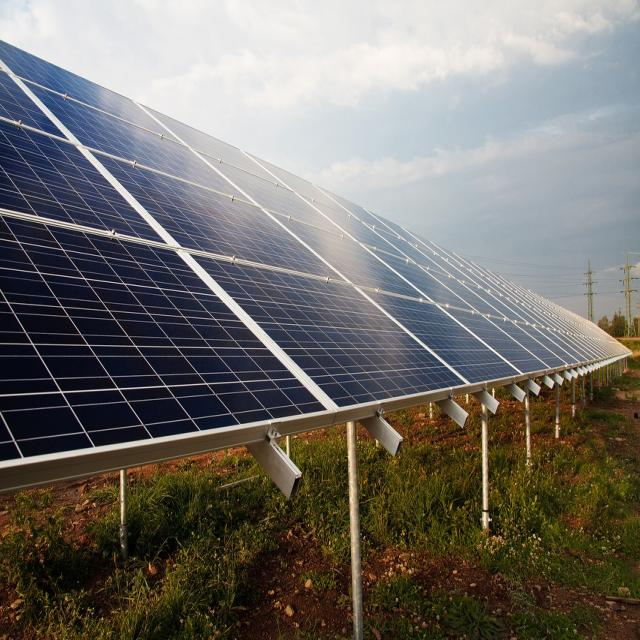clean-solar-panel: (0, 38, 633, 476)
